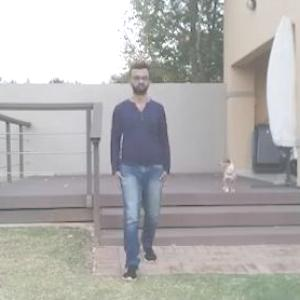follow: (109, 59, 163, 273)
